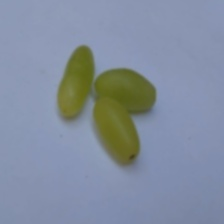grapes: (44, 24, 200, 199)
